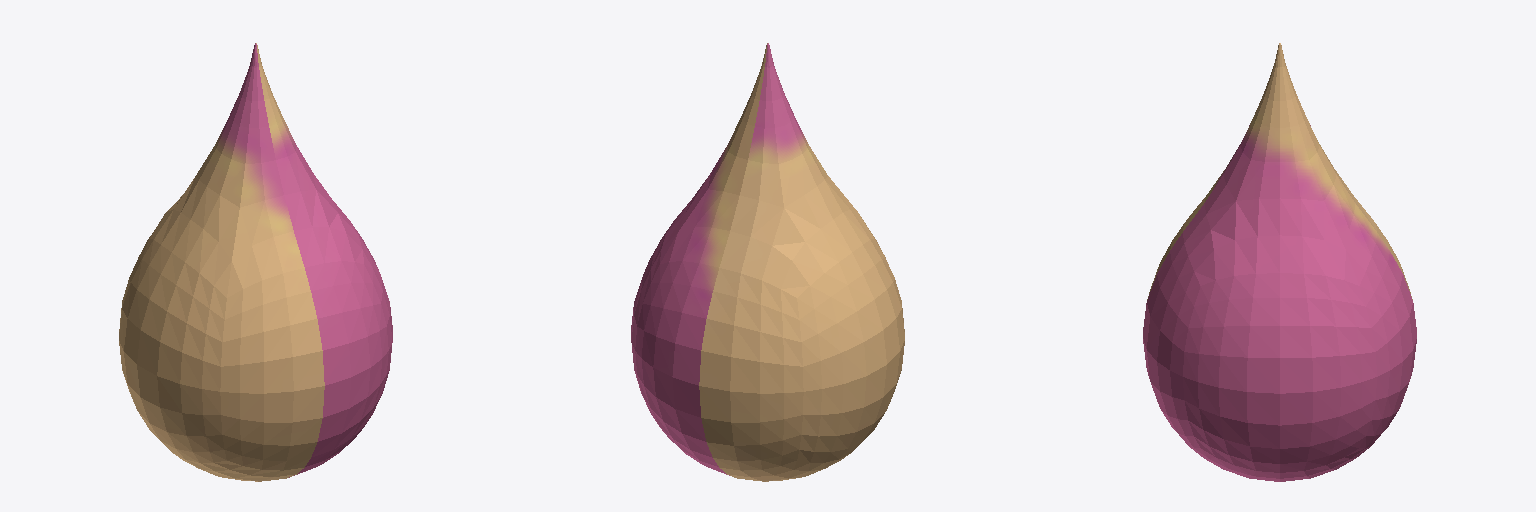
3 views of the same model, side by side, from view 1: azimuth 30°, elevation 25°; view 2: azimuth 150°, elevation 25°; view 3: azimuth 270°, elevation 25° (orthographic).
Visible parts, largest first — view 1: Drops; view 2: Drops; view 3: Drops.
Boxes of the visible parts, x1=… form: Drops: x1=119, y1=43, x2=392, y2=481; Drops: x1=631, y1=43, x2=904, y2=481; Drops: x1=1143, y1=43, x2=1416, y2=481.
Size of the model in its own units: 2.47 by 4.23 by 2.47.
1 materials, 1 textured.